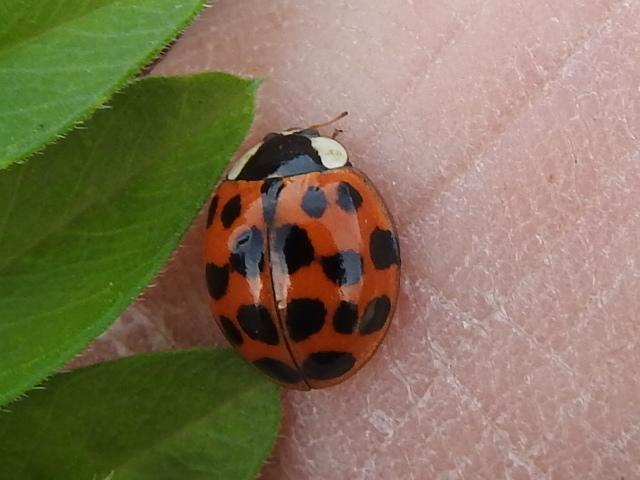ladybug: (201, 110, 405, 395)
